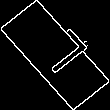L_SW: (24, 27, 86, 83)
